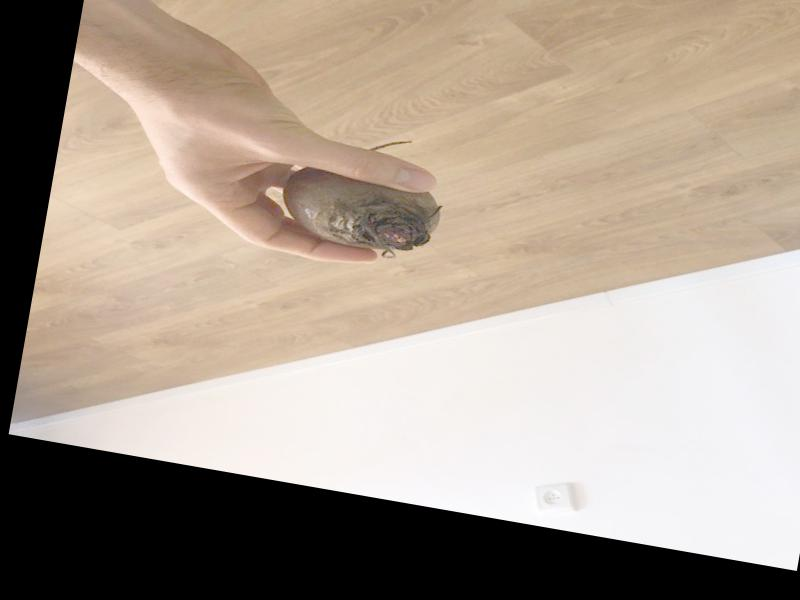Beet: (276, 121, 453, 263)
